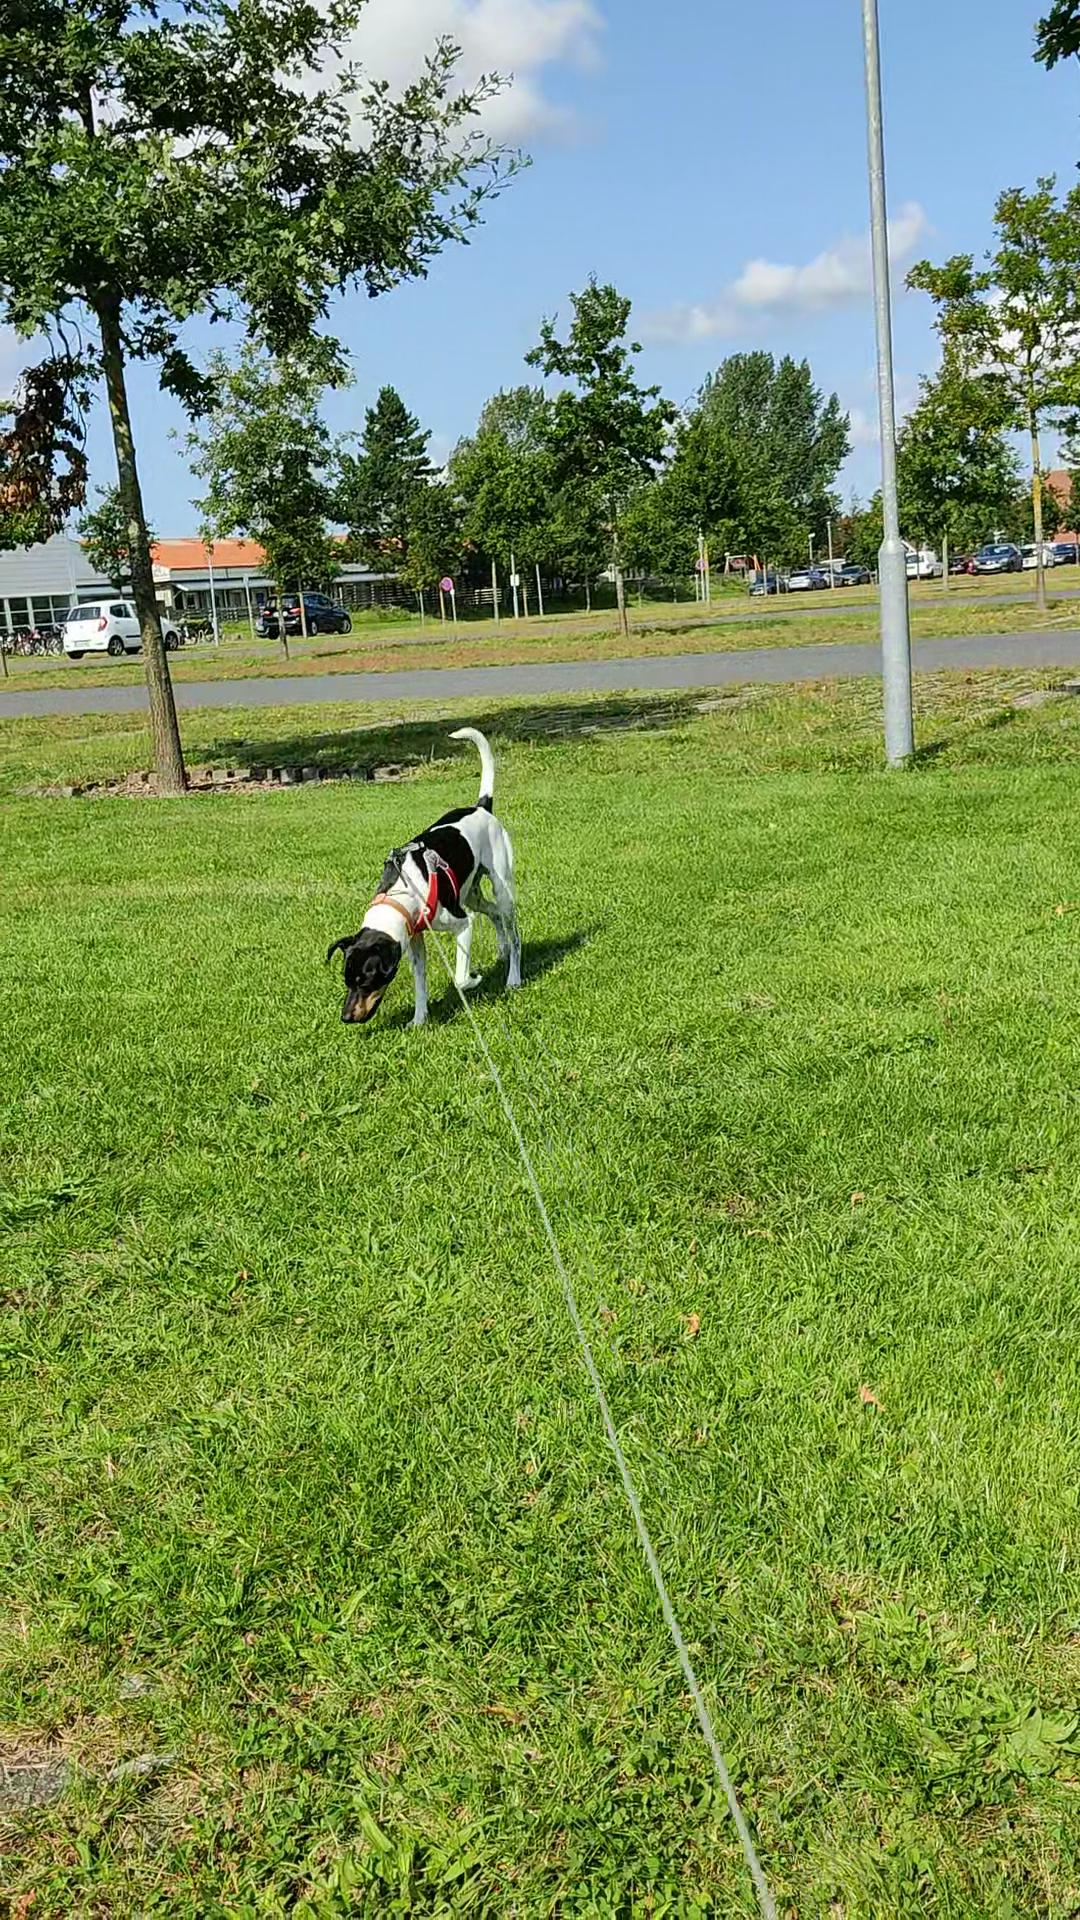Dog: (316, 717, 539, 1033)
